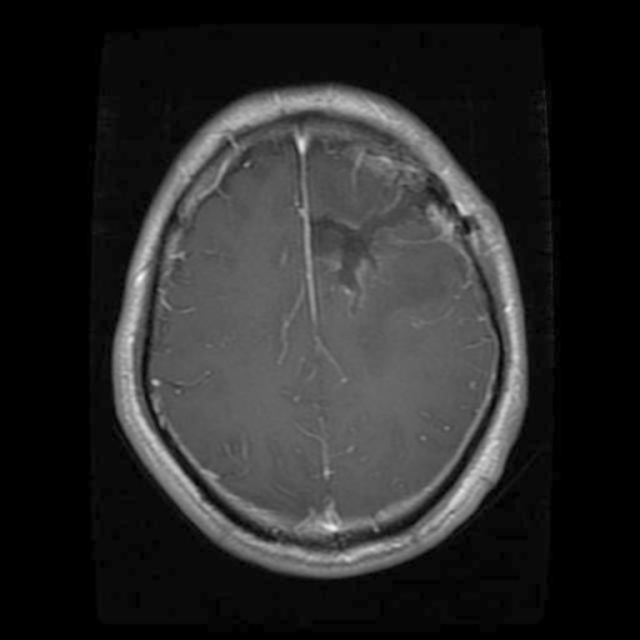pituitary tumor: (341, 216, 374, 308)
